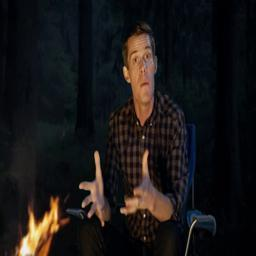fire: (16, 197, 69, 256)
